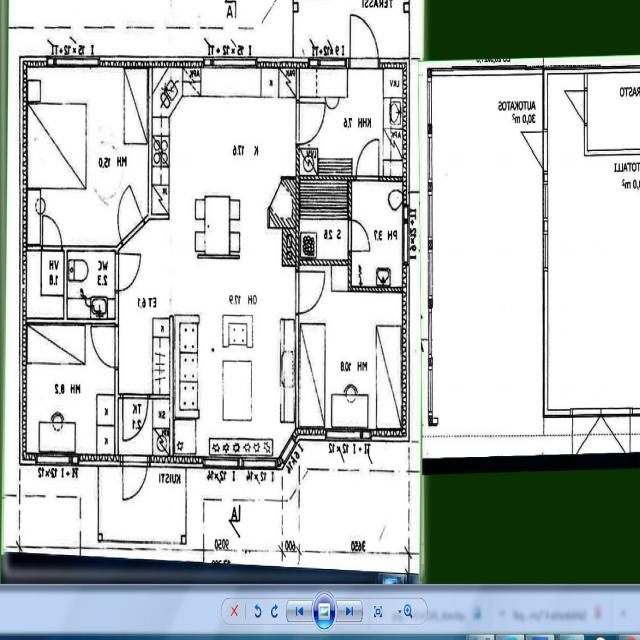door: (109, 184, 145, 247), (572, 407, 602, 463), (350, 10, 378, 68), (602, 407, 630, 463), (123, 456, 147, 508), (296, 102, 325, 144), (296, 272, 325, 313), (90, 326, 119, 367), (123, 394, 148, 439), (520, 132, 548, 169), (115, 254, 141, 290), (356, 140, 378, 182), (564, 90, 588, 122), (43, 216, 61, 252), (348, 221, 370, 250)
